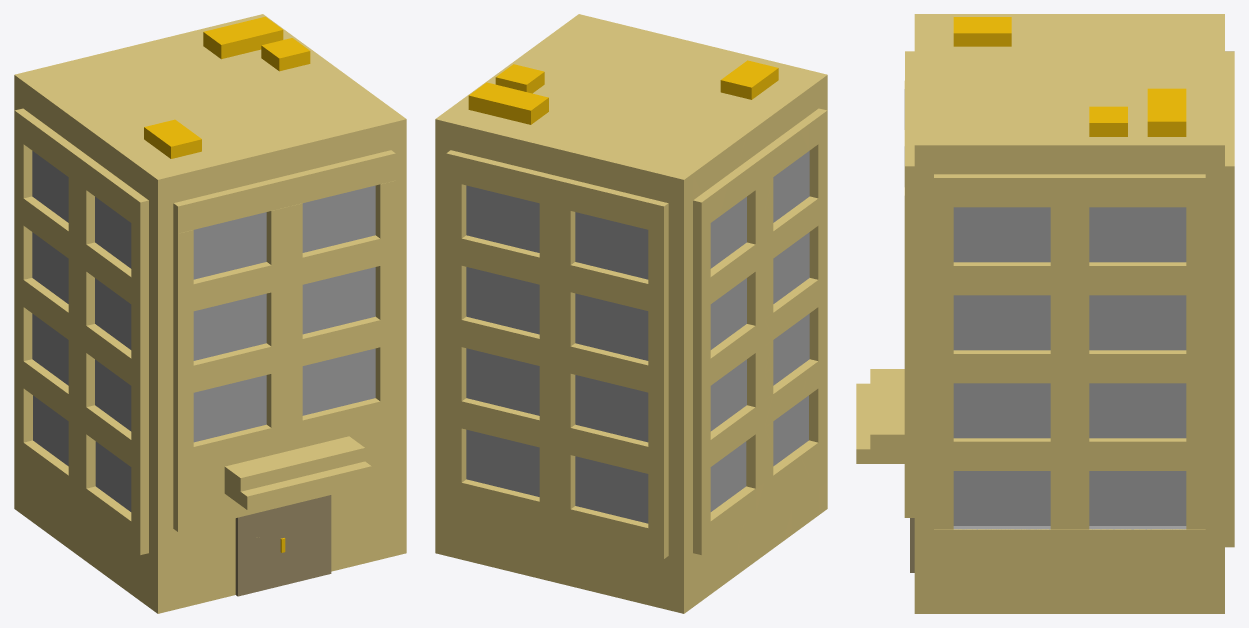
Rendered from yellowTowerBlock.fbx.
3 views of the same model, side by side, from view 1: azimuth 30°, elevation 25°; view 2: azimuth 150°, elevation 25°; view 3: azimuth 270°, elevation 25° (orthographic). The views are drawn at different scales.
Parts seen in each view (by area): view 1: yellowTowerBlock; view 2: yellowTowerBlock; view 3: yellowTowerBlock.
Boxes of the visible parts, <box> form: yellowTowerBlock: <box>14,14,406,613</box>; yellowTowerBlock: <box>435,14,827,613</box>; yellowTowerBlock: <box>856,14,1234,613</box>.
Size of the model in its own units: 1.28 by 2.07 by 1.46.
